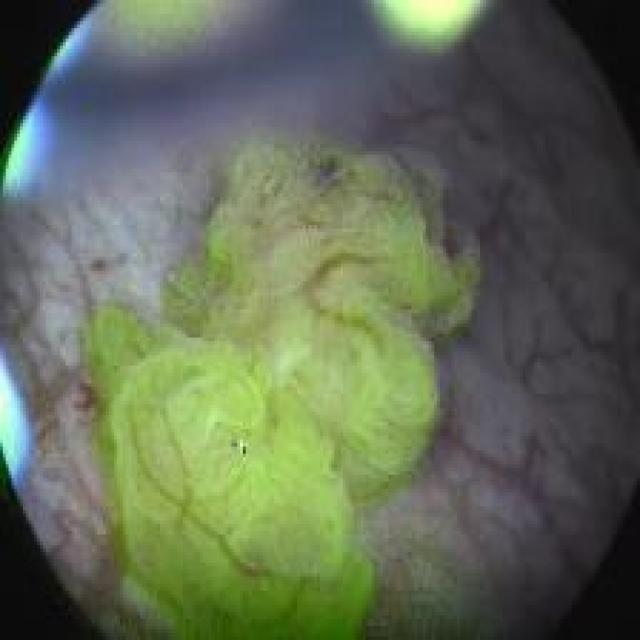color misalignment: (2, 2, 416, 186), (95, 0, 227, 61), (368, 1, 483, 56), (1, 347, 34, 493), (2, 98, 51, 193), (36, 18, 85, 93), (237, 439, 248, 455), (230, 439, 238, 450)
